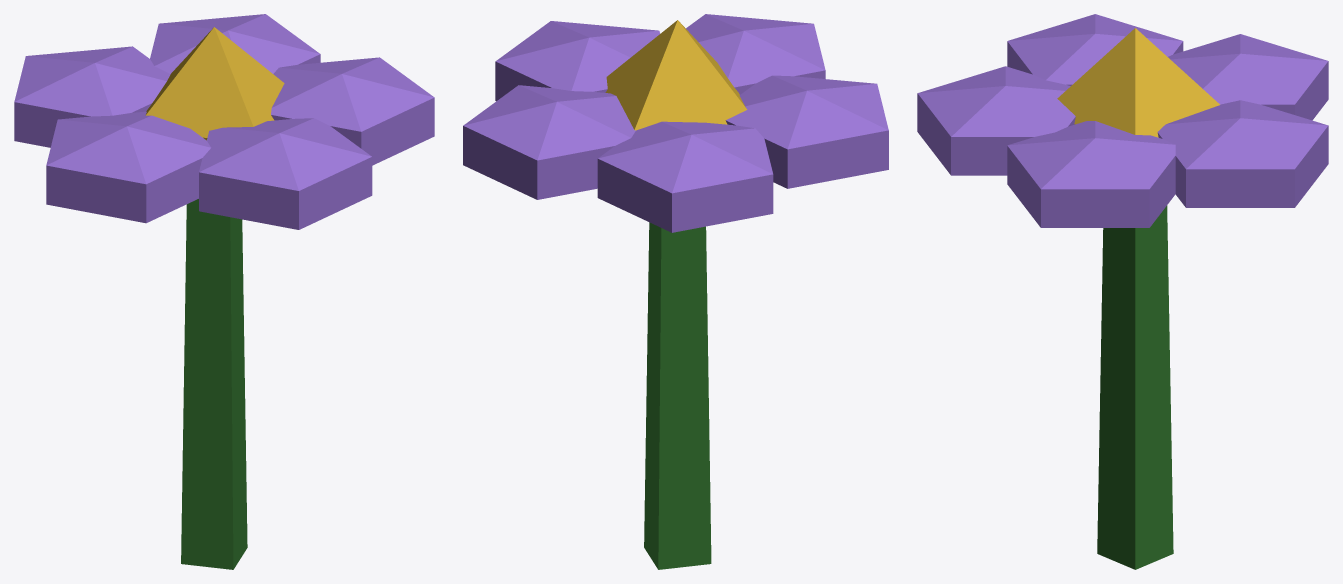
Rendered from biome-clover-flowerLilac.glb.
3 renders of one model, left to right at view 1: azimuth 30°, elevation 25°; view 2: azimuth 150°, elevation 25°; view 3: azimuth 270°, elevation 25°, orthographic.
Bounding box in the file's own units: 0.5427 × 0.76 × 0.5382.
